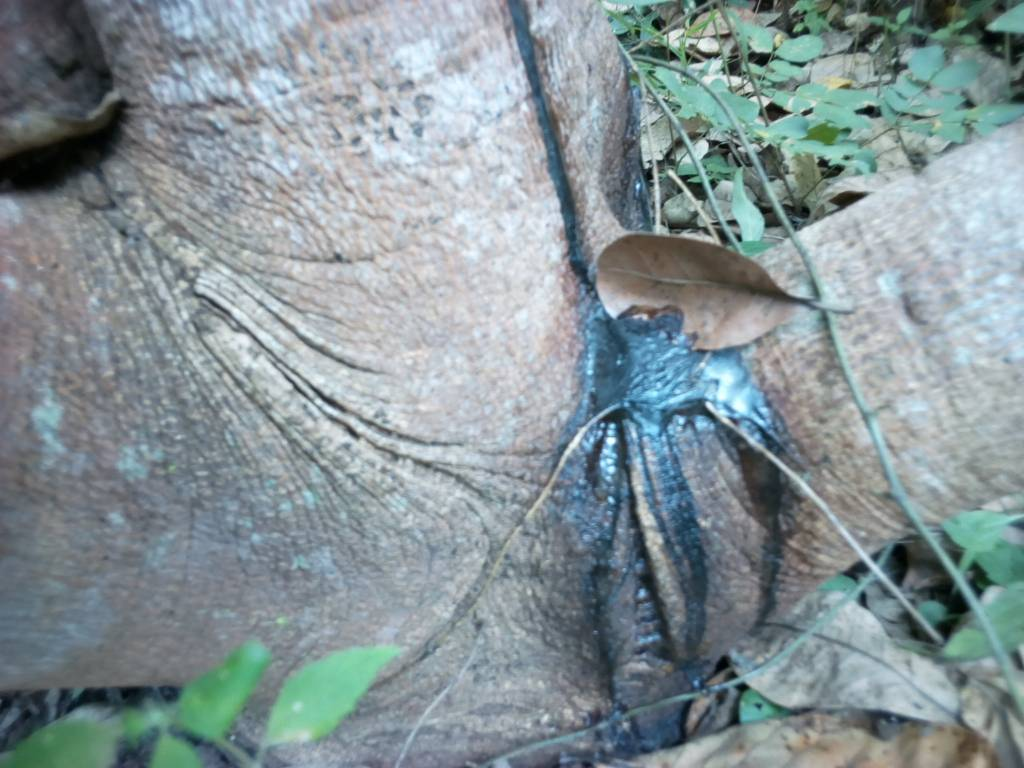Gommose: (552, 320, 788, 677)
